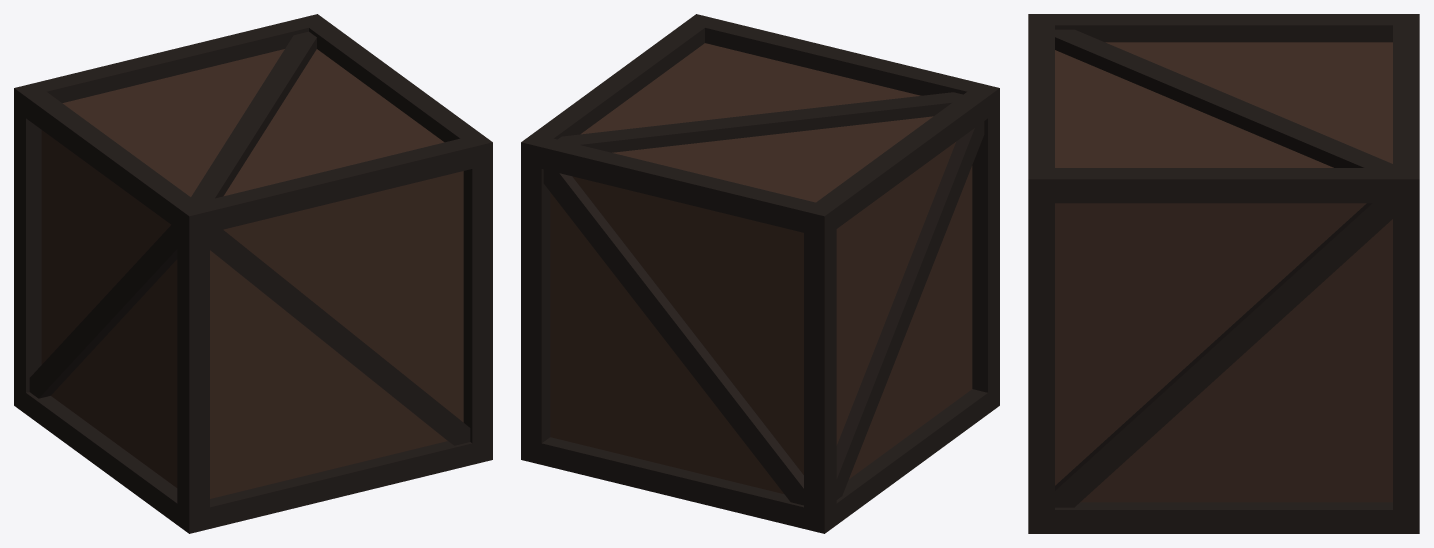
The picture shows the model from 3 angles, left to right: view 1: azimuth 30°, elevation 25°; view 2: azimuth 150°, elevation 25°; view 3: azimuth 270°, elevation 25°; orthographic projection. The views are drawn at different scales.
Visible parts, largest first — view 1: Box41113; view 2: Box41113; view 3: Box41113.
Boxes of the visible parts, box(x1,y1,x2,y2) form: Box41113: box(14, 14, 492, 533); Box41113: box(521, 14, 999, 533); Box41113: box(1028, 14, 1419, 533).
Bounding box in the file's own units: 120 × 120 × 120.
